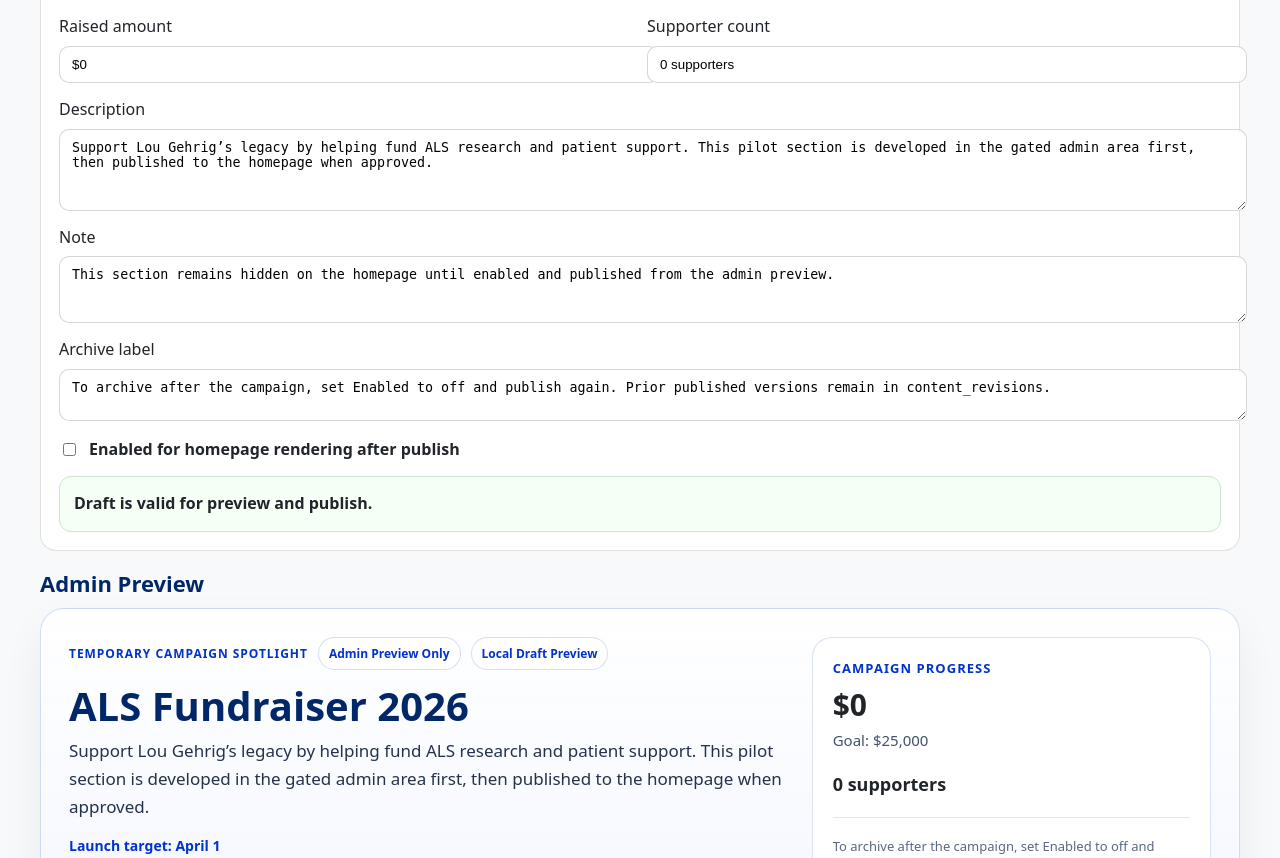
Test: admin fundraiser preview page › shows campaign validation errors when enabled without leaderboard data
(page scrolled)
Step 1. Click the checkbox labelled "Enabled for homepage rendering after publish" → (70, 450), box x1=63 y1=443 x2=76 y2=456
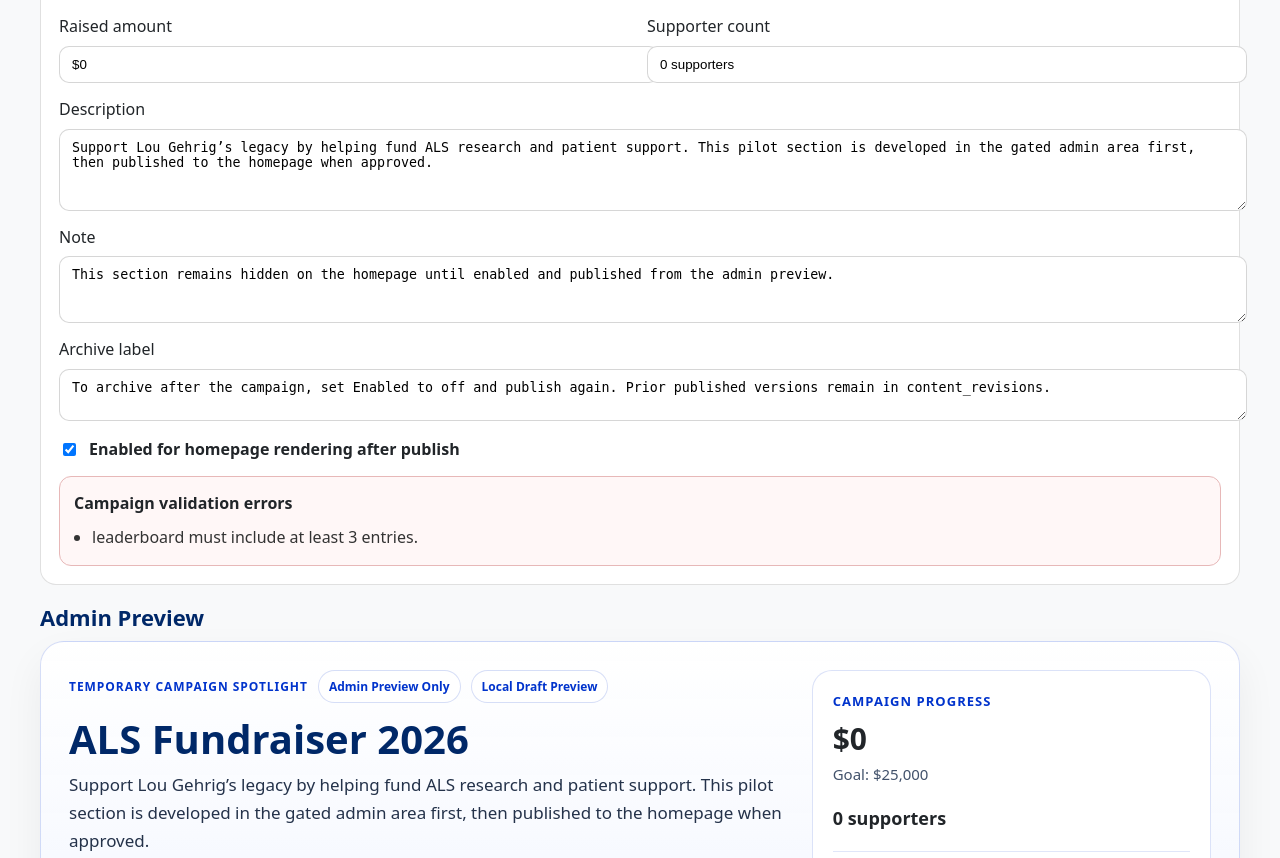
Expected: the text "Campaign validation errors" is shown, x1=74 y1=492 x2=292 y2=514
